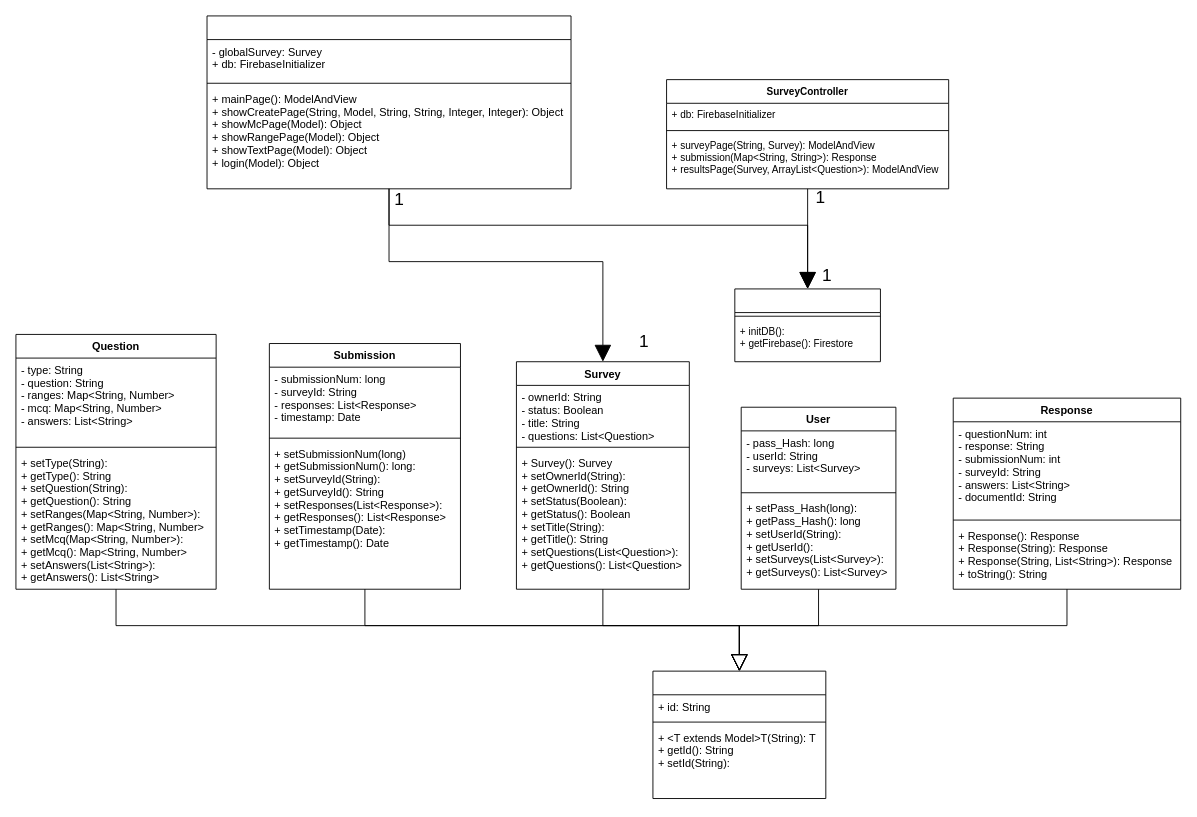
Some shapes in this 1197 by 817 pixel diagram are drawn without their labels. Here are the shapes that lost their labels. From the top down, the box of each, then its label:
(206, 15, 571, 189): IndexController
(734, 288, 880, 362): FirebaseInitializer
(652, 670, 826, 799): Model
